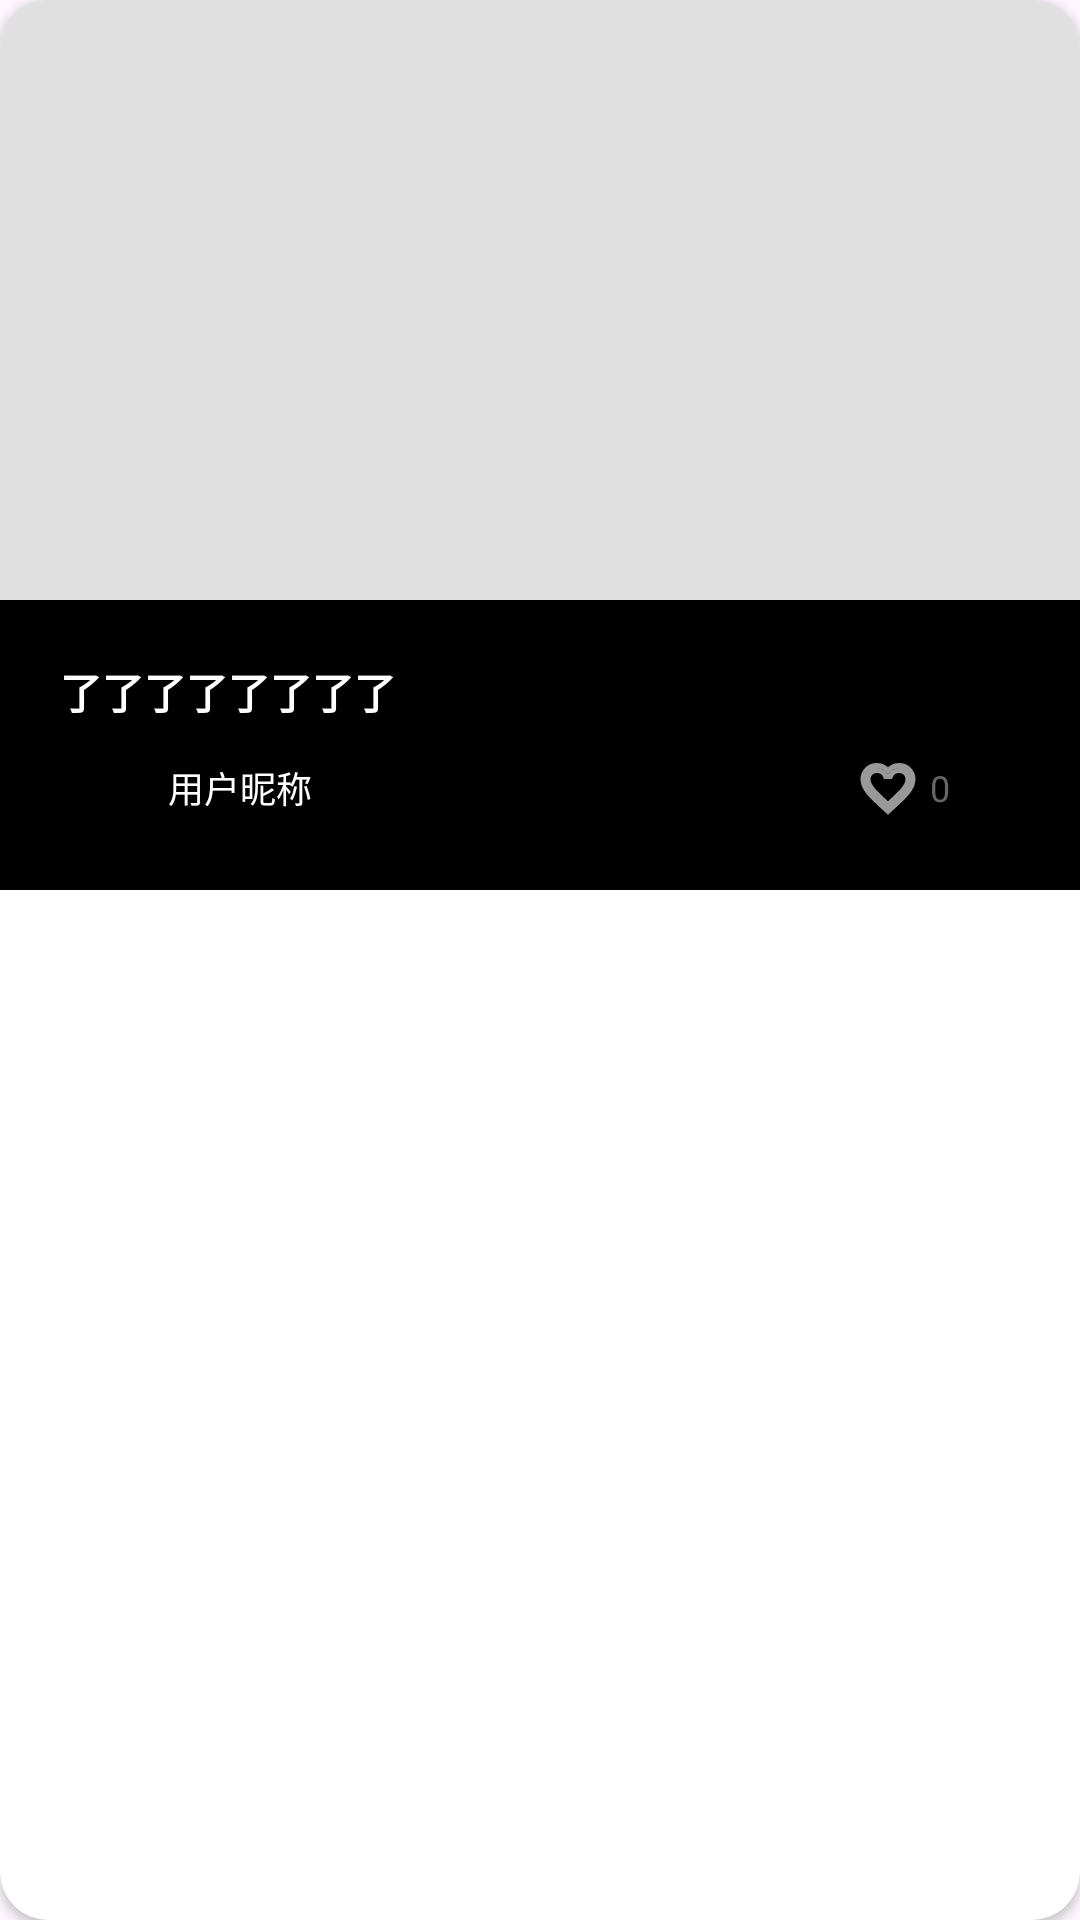

Icons on this 1080 × 1920 Android screen, each with the point to tap as (x,y):
点赞图标: (888,789)
